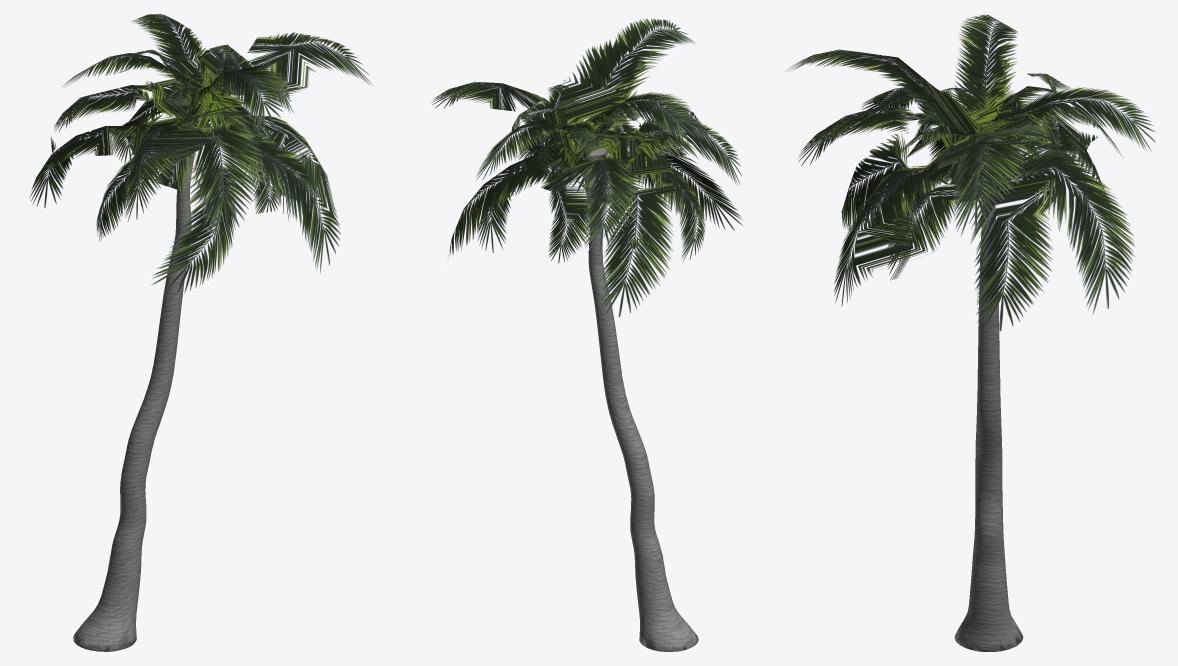
The model's file is palm_tall_lod1.glb.
3 renders of one model, left to right at view 1: azimuth 30°, elevation 25°; view 2: azimuth 150°, elevation 25°; view 3: azimuth 270°, elevation 25°, orthographic. The views are drawn at different scales.
Parts seen in each view (by area): view 1: Cylinder.001; view 2: Cylinder.001; view 3: Cylinder.001.
Boxes of the visible parts, bbox=[...] form: Cylinder.001: bbox=[29, 14, 373, 651]; Cylinder.001: bbox=[431, 19, 742, 651]; Cylinder.001: bbox=[785, 14, 1155, 651].
Size of the model in its own units: 2.57 by 4.5 by 2.47.
Materials: 2 (2 with a texture image).
